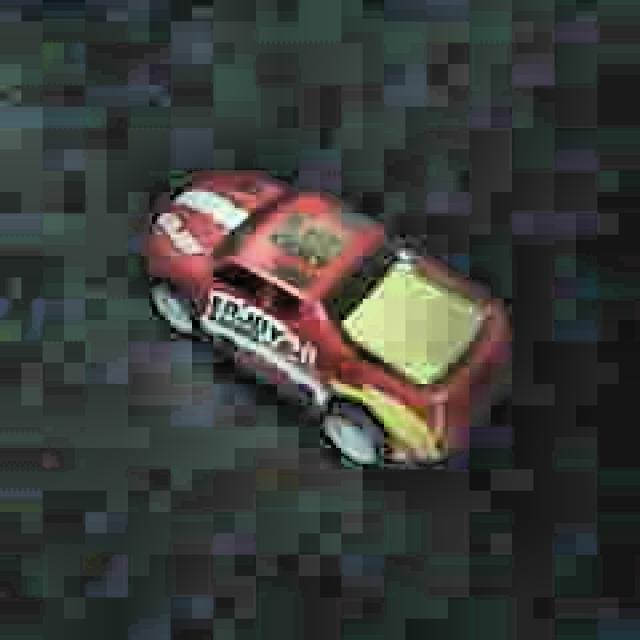car: (134, 160, 525, 482)
